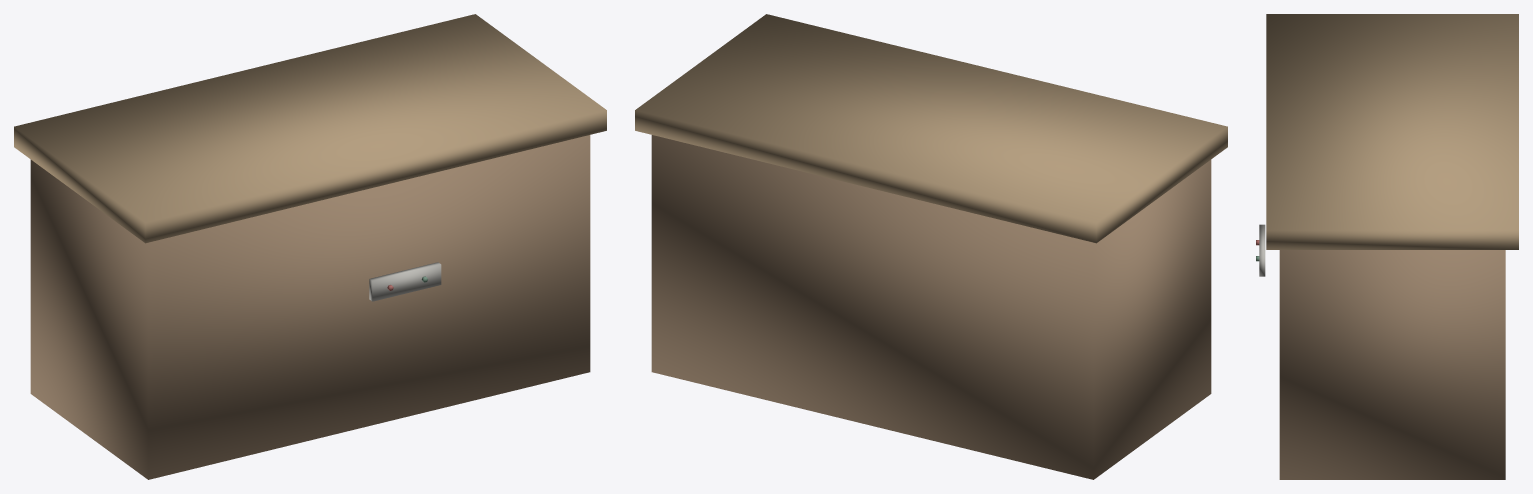
Rendered from bank_teller_counter__deep.glb.
3 views of the same model, side by side, from view 1: azimuth 30°, elevation 25°; view 2: azimuth 150°, elevation 25°; view 3: azimuth 270°, elevation 25° (orthographic). The views are drawn at different scales.
Visible parts, largest first — view 1: world; view 2: world; view 3: world.
Part boxes in pixels (left/top/right/bottom): world: left=14, top=14, right=606, bottom=479; world: left=635, top=14, right=1227, bottom=479; world: left=1256, top=14, right=1518, bottom=479.
Size of the model in its own units: 1.88 by 1.03 by 0.965.
